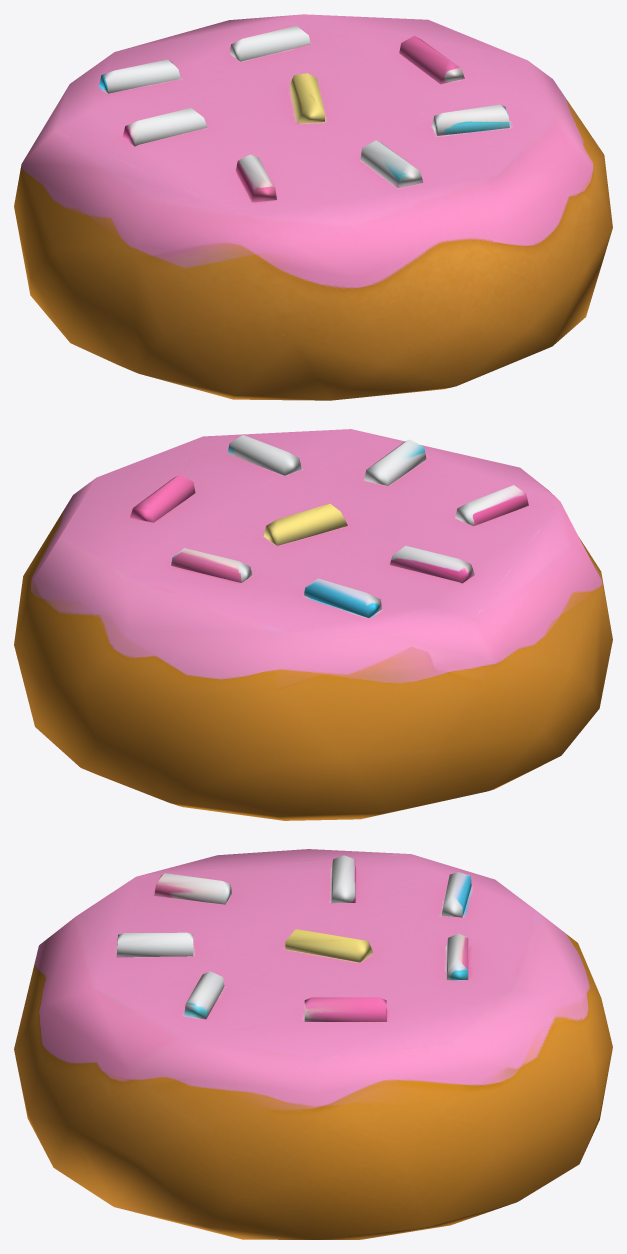
The model's file is source.fbx.
3 views of the same model, one above another, from view 1: azimuth 30°, elevation 25°; view 2: azimuth 150°, elevation 25°; view 3: azimuth 270°, elevation 25° (orthographic).
Parts seen in each view (by area): view 1: Mesh_0; view 2: Mesh_0; view 3: Mesh_0.
Boxes of the visible parts, x1=… form: Mesh_0: x1=14, y1=14, x2=612, y2=400; Mesh_0: x1=14, y1=429, x2=612, y2=820; Mesh_0: x1=14, y1=849, x2=612, y2=1239.
Bounding box in the file's own units: 47.99 × 18 × 48.29.
1 material, 1 textured.
